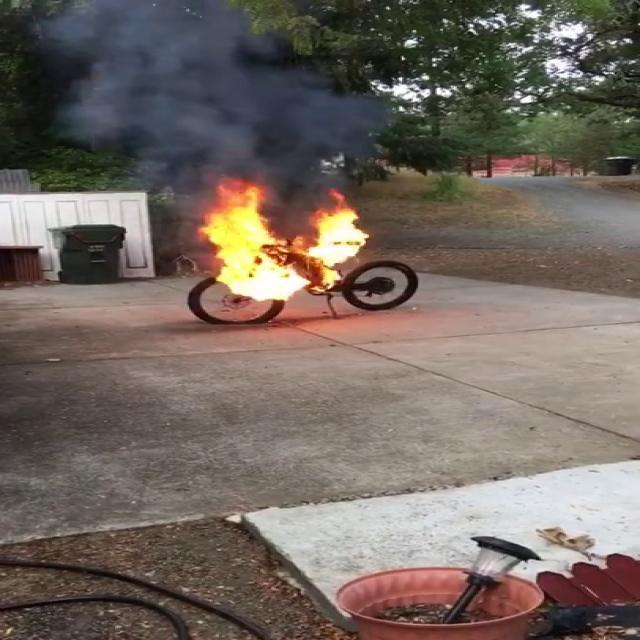Fire: (190, 180, 378, 300)
Smoke: (33, 0, 364, 197)
